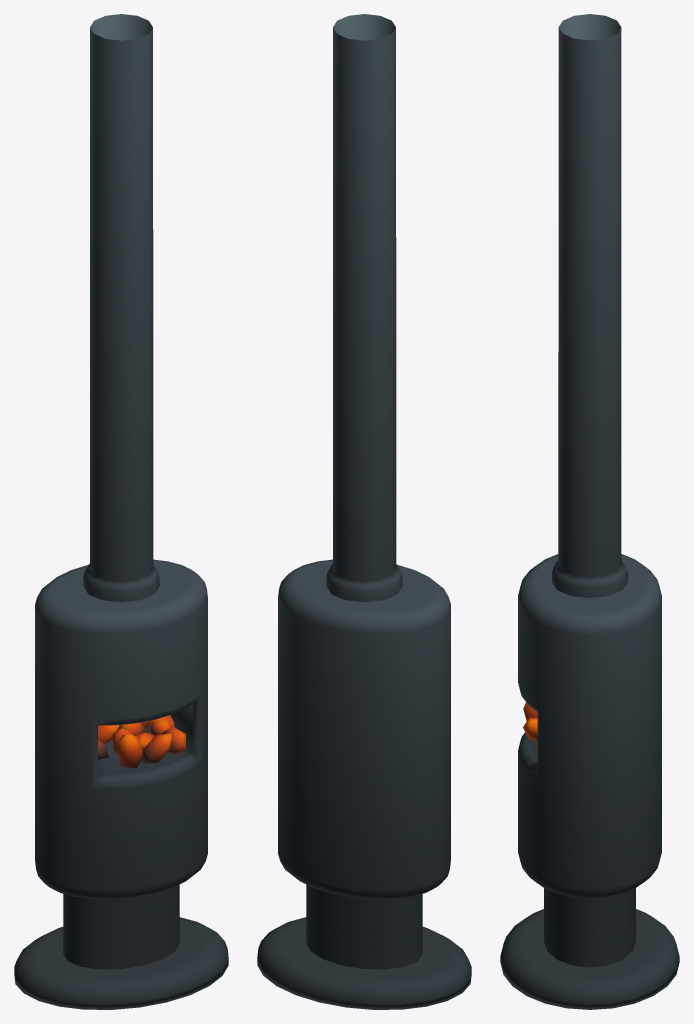
Rendered from Fireplace_11.glb.
3 renders of one model, left to right at view 1: azimuth 30°, elevation 25°; view 2: azimuth 150°, elevation 25°; view 3: azimuth 270°, elevation 25°, orthographic.
Visible parts, largest first — view 1: Fireplace_11; view 2: Fireplace_11; view 3: Fireplace_11.
Part boxes in pixels (x1,y1,x2,y2): Fireplace_11: [14, 14, 228, 1009]; Fireplace_11: [257, 14, 471, 1009]; Fireplace_11: [500, 14, 679, 1009].
Bounding box in the file's own units: 0.5485 × 2.52 × 0.438.
1 material, 1 textured.
